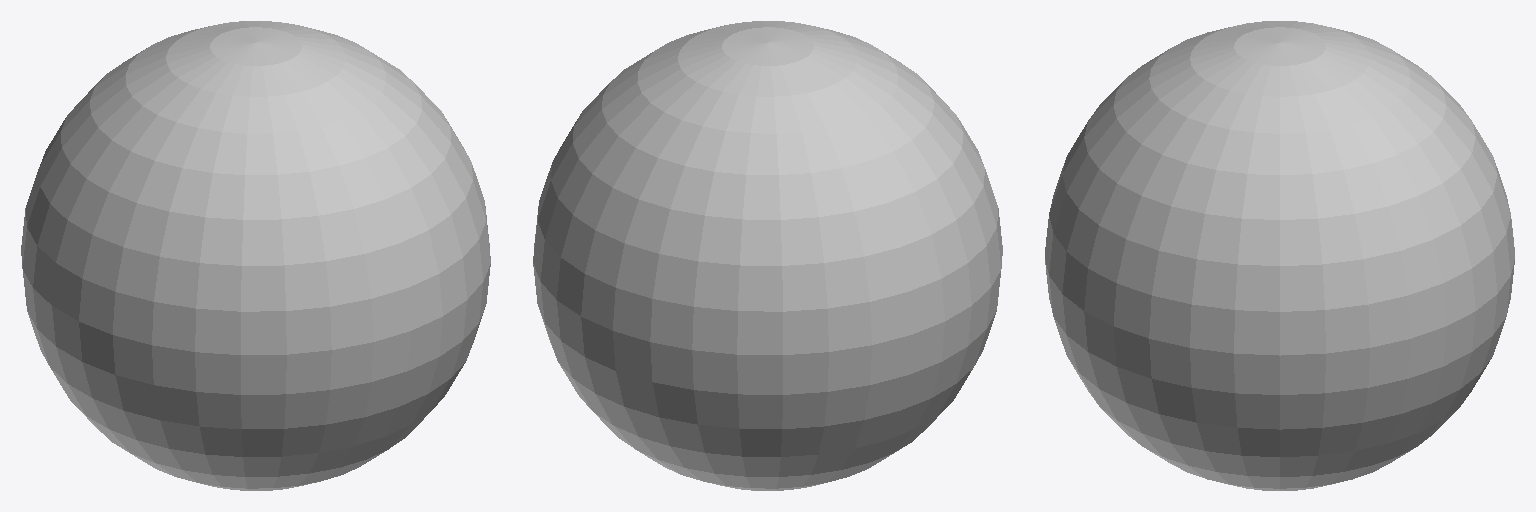
The model's file is sphereCenter.obj.
3 renders of one model, left to right at view 1: azimuth 30°, elevation 25°; view 2: azimuth 150°, elevation 25°; view 3: azimuth 270°, elevation 25°, orthographic.
Parts seen in each view (by area): view 1: SphereCenter; view 2: SphereCenter; view 3: SphereCenter.
Part boxes in pixels (x1,y1,x2,y2): SphereCenter: (21,21,490,490); SphereCenter: (533,21,1002,490); SphereCenter: (1045,21,1514,490).
Bounding box in the file's own units: 280 × 280 × 280.